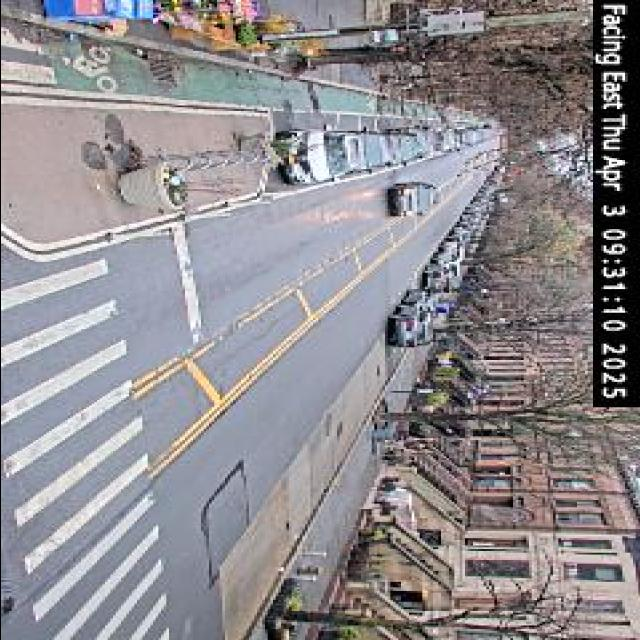open parking: (388, 209, 483, 359), (304, 123, 486, 171)
